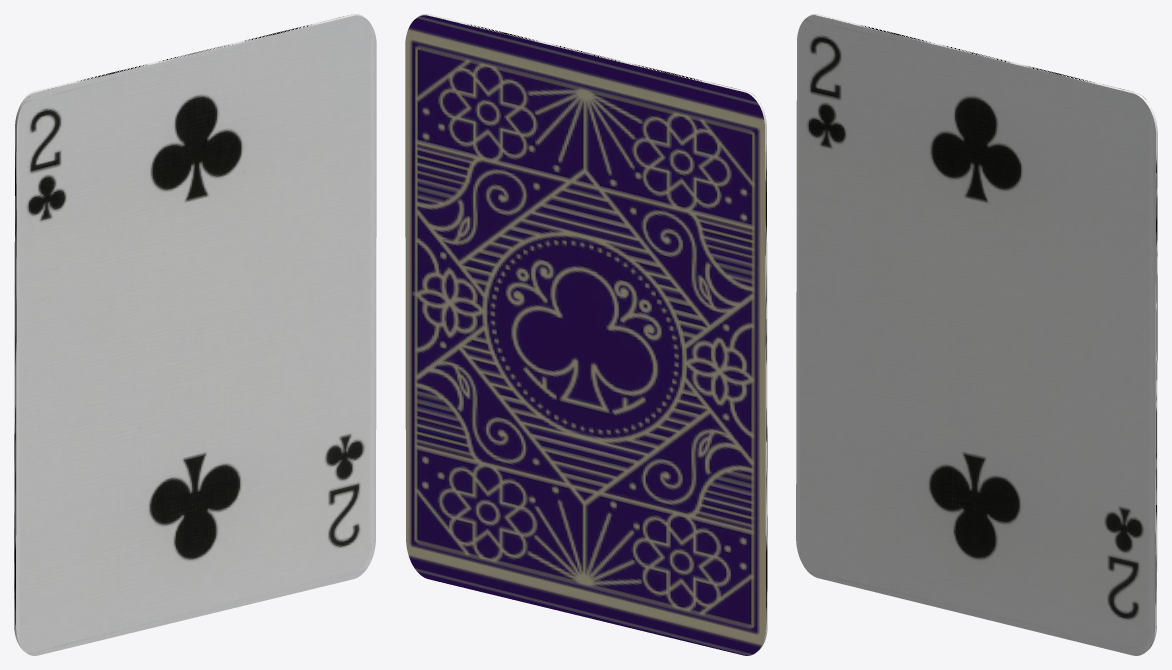
Rendered from 2treboles.glb.
The picture shows the model from 3 angles, left to right: view 1: azimuth 30°, elevation 25°; view 2: azimuth 150°, elevation 25°; view 3: azimuth 330°, elevation 25°; orthographic projection.
Visible parts, largest first — view 1: Cubo.019; view 2: Cubo.019; view 3: Cubo.019.
Part boxes in pixels (<box>): Cubo.019: <box>14,14,376,655</box>; Cubo.019: <box>405,14,767,655</box>; Cubo.019: <box>796,14,1157,655</box>.
Bounding box in the file's own units: 7.36 × 11 × 0.065.
Materials: 3 (3 with a texture image).
